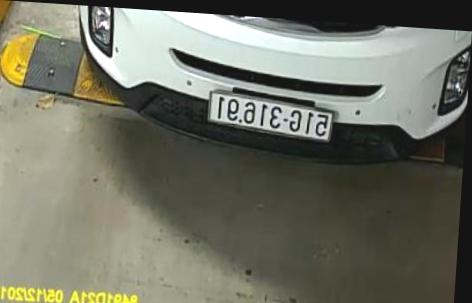License_Plate: (195, 87, 342, 139)
